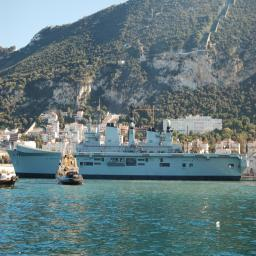Portanaves: (7, 101, 253, 182)
